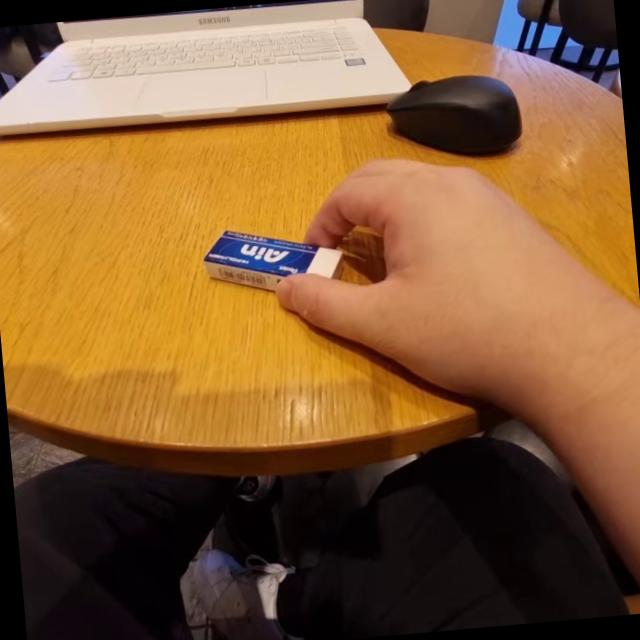eraser: (198, 212, 346, 312)
grab_eraser: (182, 138, 602, 436)
hand: (283, 160, 560, 404)
mouse: (379, 63, 528, 163)
